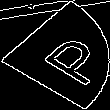P_NW: (10, 24, 100, 86)
